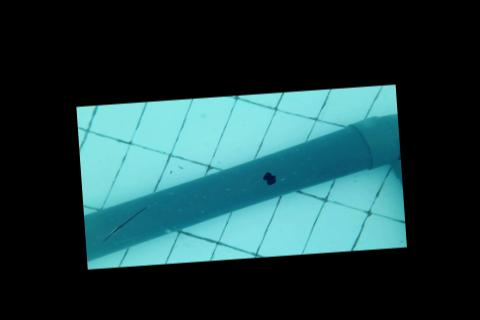kebocoran: (259, 169, 278, 186)
keretakan: (99, 203, 151, 240)
